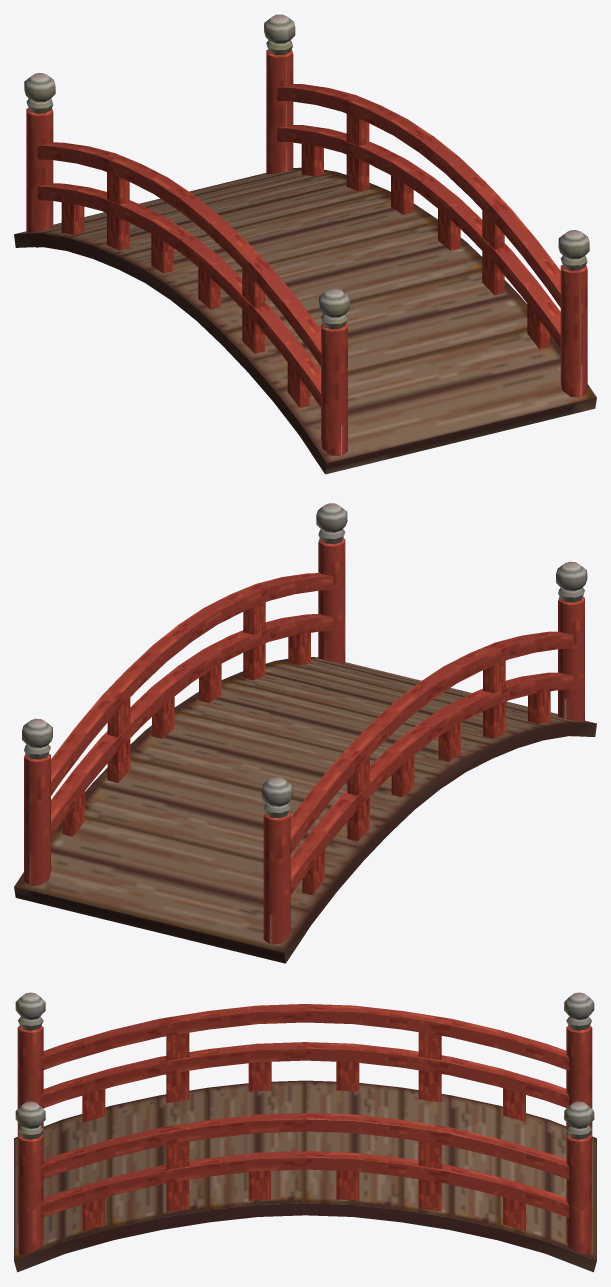
Rendered from Bridge.fbx.
The picture shows the model from 3 angles, top to bottom: view 1: azimuth 30°, elevation 25°; view 2: azimuth 150°, elevation 25°; view 3: azimuth 270°, elevation 25°; orthographic projection. The views are drawn at different scales.
Visible parts, largest first — view 1: Bridge; view 2: Bridge; view 3: Bridge.
Part boxes in pixels (x1=…): Bridge: x1=14, y1=14, x2=596, y2=474; Bridge: x1=14, y1=503, x2=596, y2=963; Bridge: x1=14, y1=992, x2=596, y2=1272.
Bounding box in the file's own units: 239 × 147 × 480.
